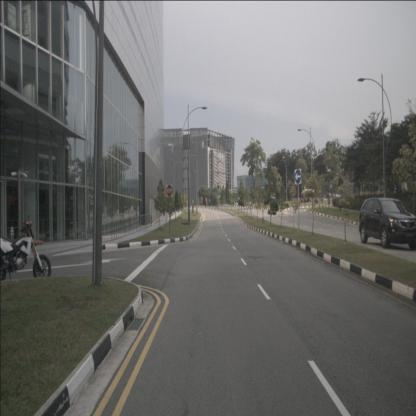vehicle-car: (358, 197, 416, 250), (268, 207, 276, 215)
vehicle-motorcycle: (0, 213, 52, 283)
